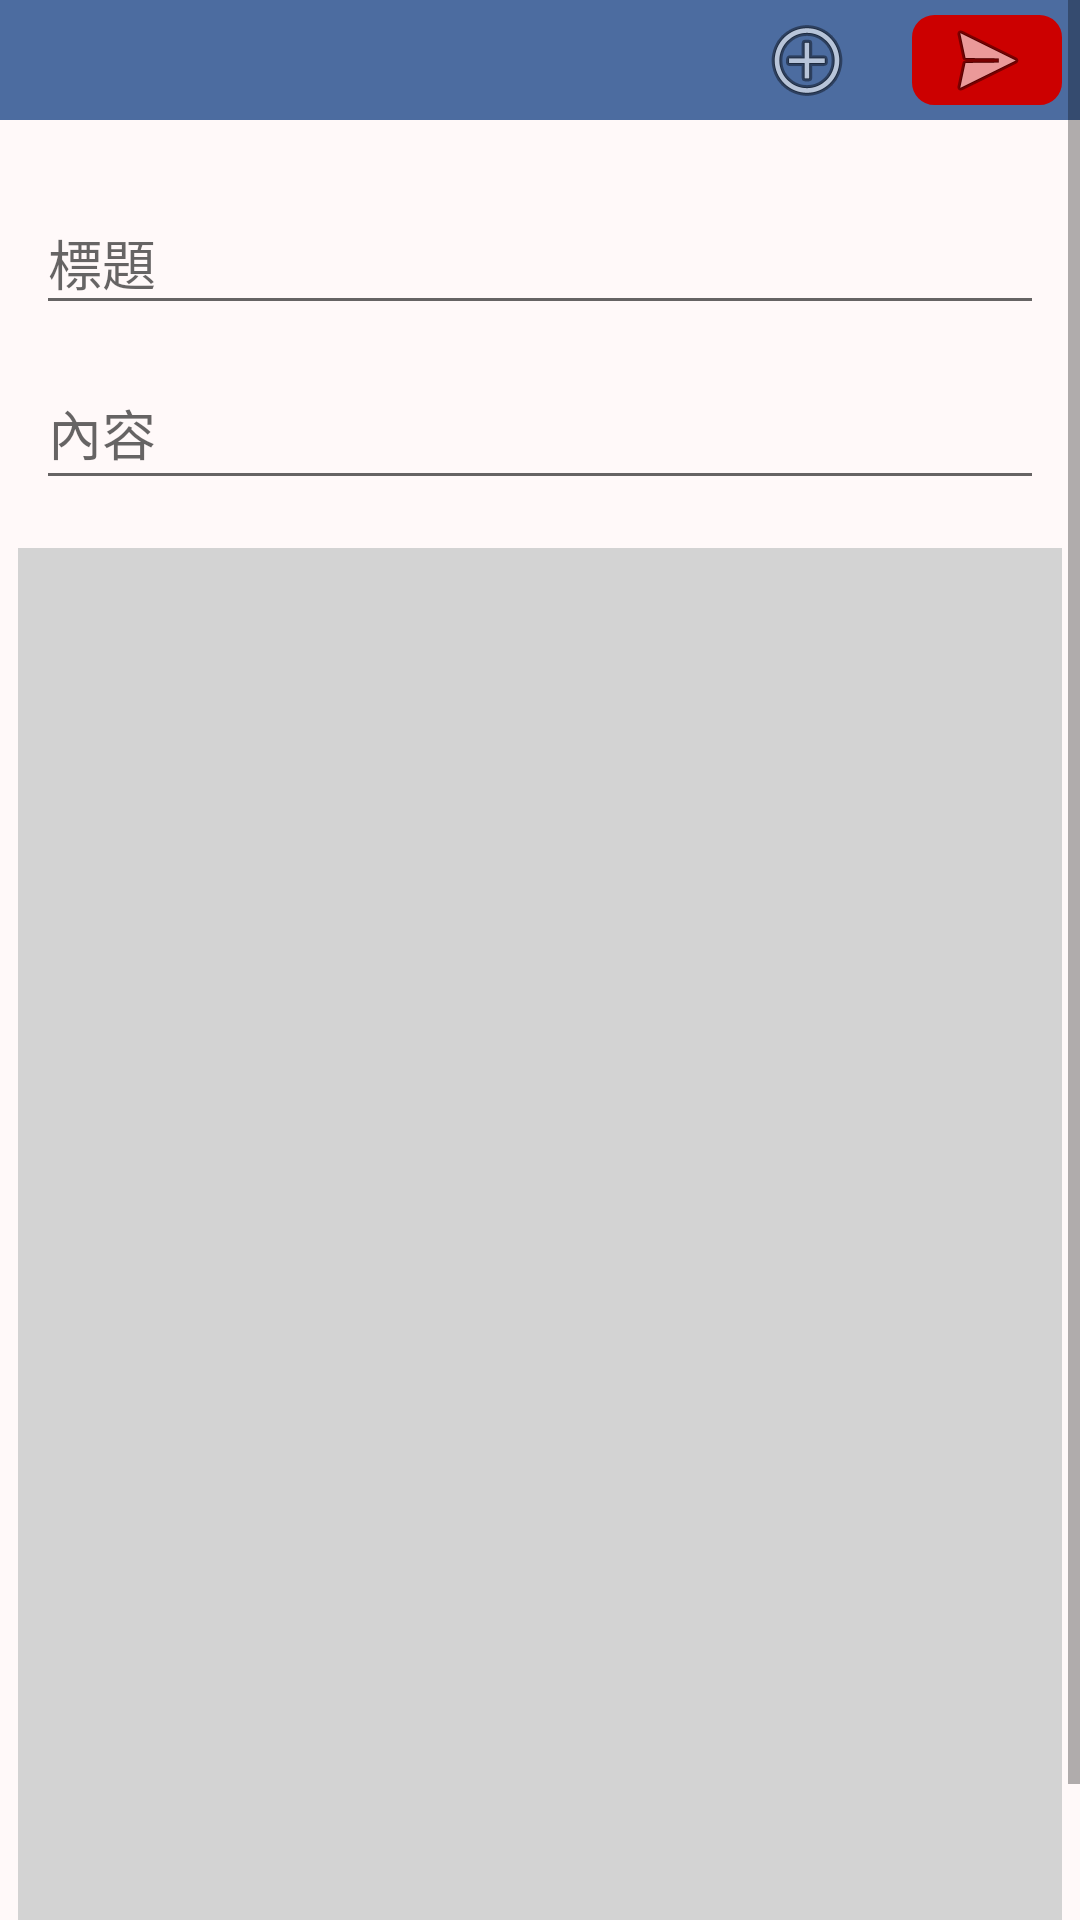

Icon click points for this 1080w x 1920h phone screenshot, format (x,y):
add: (807,60)
send: (987,60)
